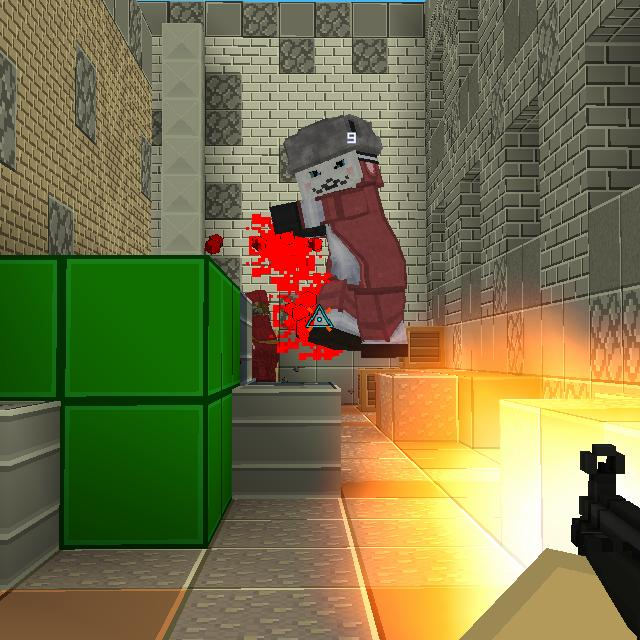enemy: (268, 109, 416, 359), (246, 286, 280, 388)
